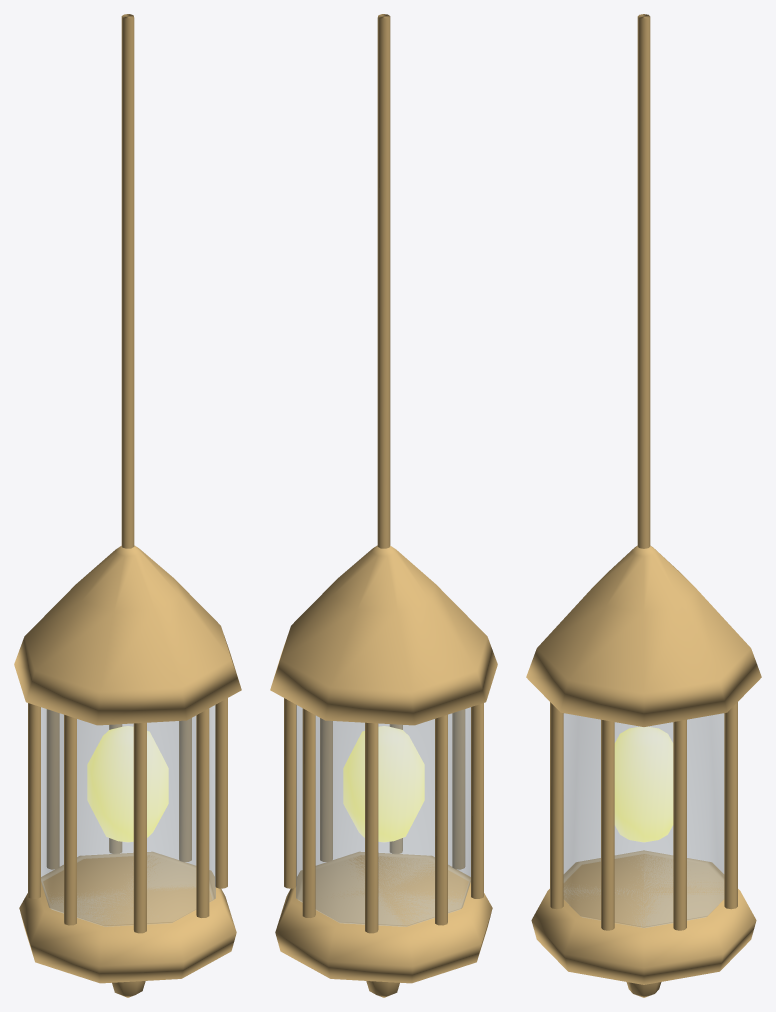
File: Star_Lantern.fbx
3 views of the same model, side by side, from view 1: azimuth 30°, elevation 25°; view 2: azimuth 150°, elevation 25°; view 3: azimuth 270°, elevation 25° (orthographic).
Parts seen in each view (by area): view 1: Star_Lantern_Mesh; view 2: Star_Lantern_Mesh; view 3: Star_Lantern_Mesh.
Part boxes in pixels (<box>): Star_Lantern_Mesh: <box>14,14,241,997</box>; Star_Lantern_Mesh: <box>270,14,497,997</box>; Star_Lantern_Mesh: <box>526,14,761,997</box>.
Size of the model in its own units: 0.22 by 1.01 by 0.22.
